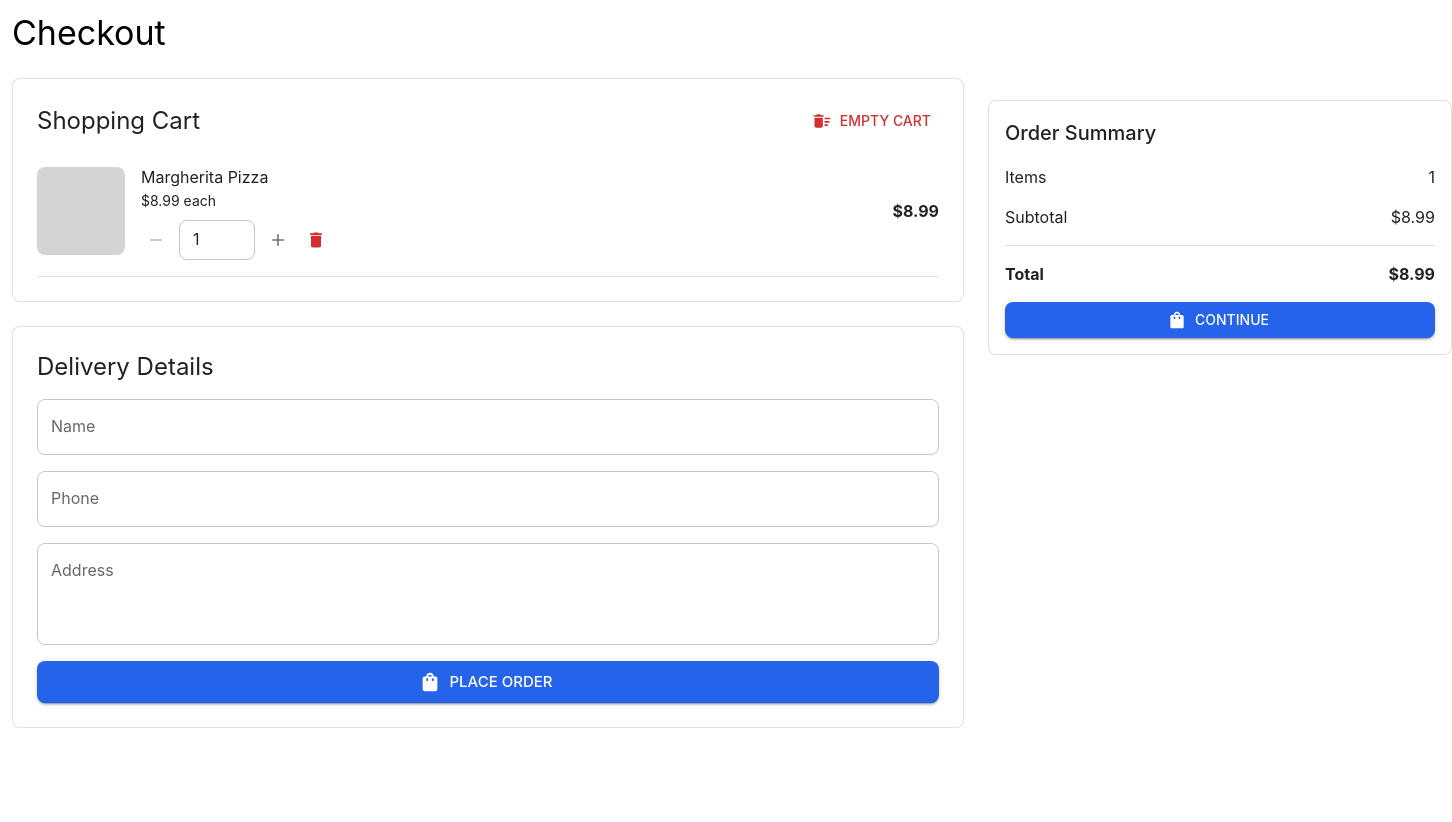
CheckoutPage › shows validation errors for missing delivery details
Click the button "Place Order".
click(488, 682)  # box top-left (37, 660), bottom-right (939, 703)
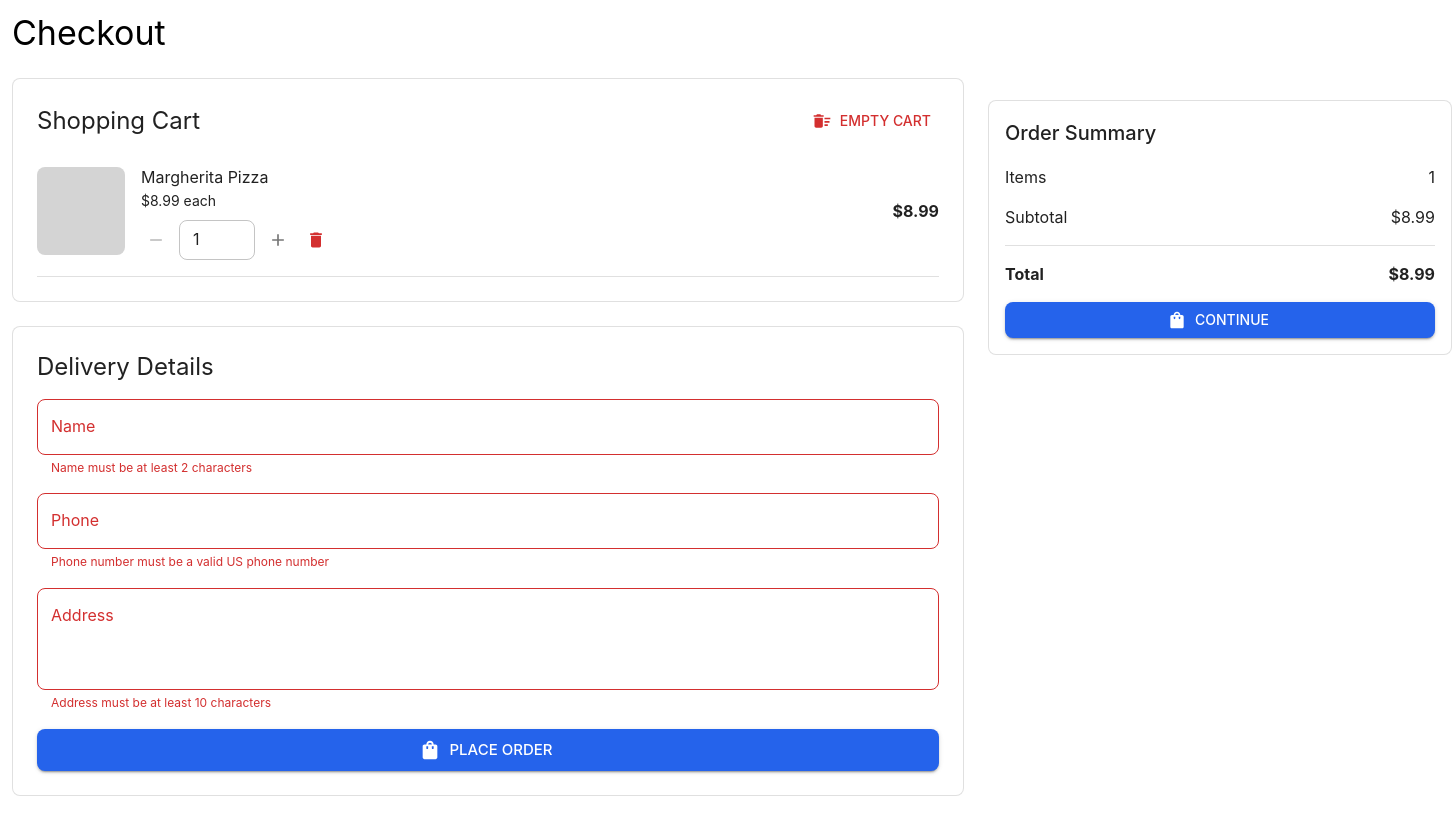
expect the text "Name must be at least 2 characters" is shown: met, box top-left (51, 460), bottom-right (252, 474)
expect the text "Phone number must be a valid US phone number" is shown: met, box top-left (51, 554), bottom-right (329, 569)
expect the text "Address must be at least 10 characters" is shown: met, box top-left (51, 695), bottom-right (271, 710)
